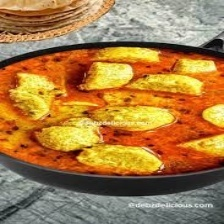sabzi: (0, 44, 224, 176)
